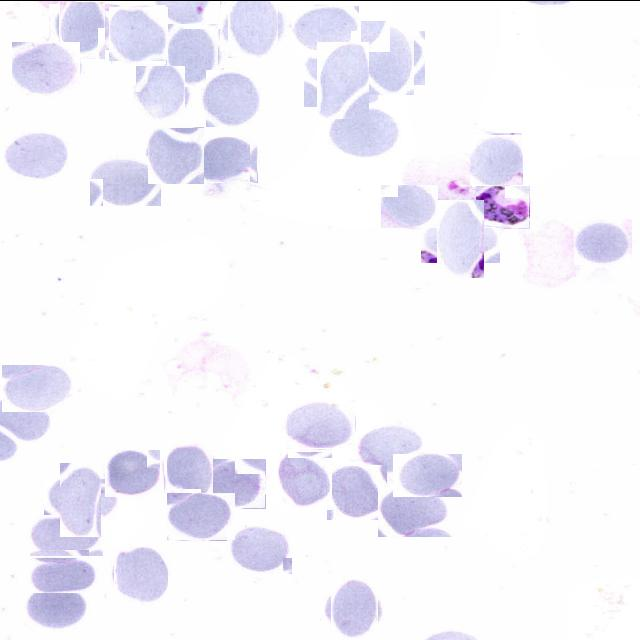gametocyte: (476, 185, 530, 228)
red blood cell: (310, 48, 376, 112), (328, 104, 406, 158), (356, 25, 420, 89), (429, 207, 492, 270), (12, 41, 80, 97), (378, 486, 452, 536), (90, 156, 162, 206), (52, 470, 110, 528), (167, 492, 236, 540), (287, 400, 356, 448), (326, 580, 383, 638), (227, 524, 293, 574), (327, 464, 387, 519), (2, 364, 72, 411), (113, 547, 170, 604), (110, 5, 167, 62), (164, 26, 222, 82), (276, 452, 332, 508), (148, 126, 204, 182), (224, 0, 282, 54), (30, 514, 104, 556), (206, 69, 260, 126), (54, 0, 110, 54), (5, 133, 68, 181), (206, 458, 266, 508), (359, 426, 424, 472), (393, 453, 462, 496), (292, 5, 359, 49), (162, 444, 216, 498), (22, 586, 86, 630), (197, 136, 258, 182), (471, 133, 523, 185), (134, 66, 186, 118), (105, 449, 161, 497), (574, 218, 632, 264), (381, 184, 439, 228), (30, 557, 96, 592)
